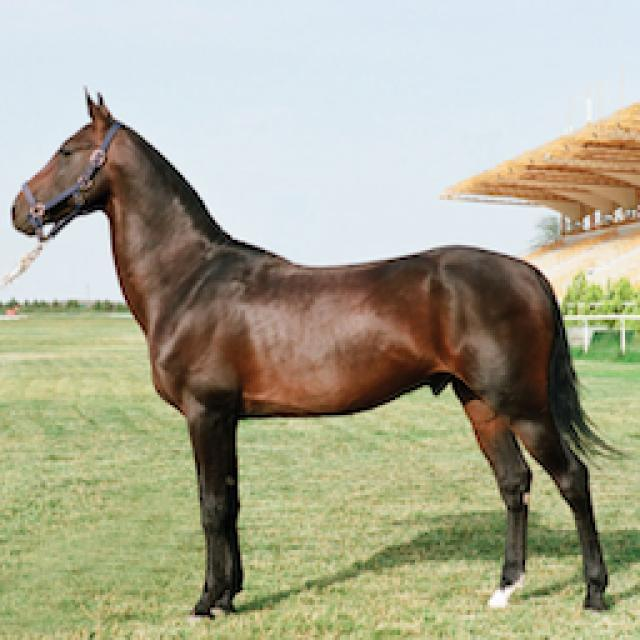Horse: (2, 82, 636, 626)
